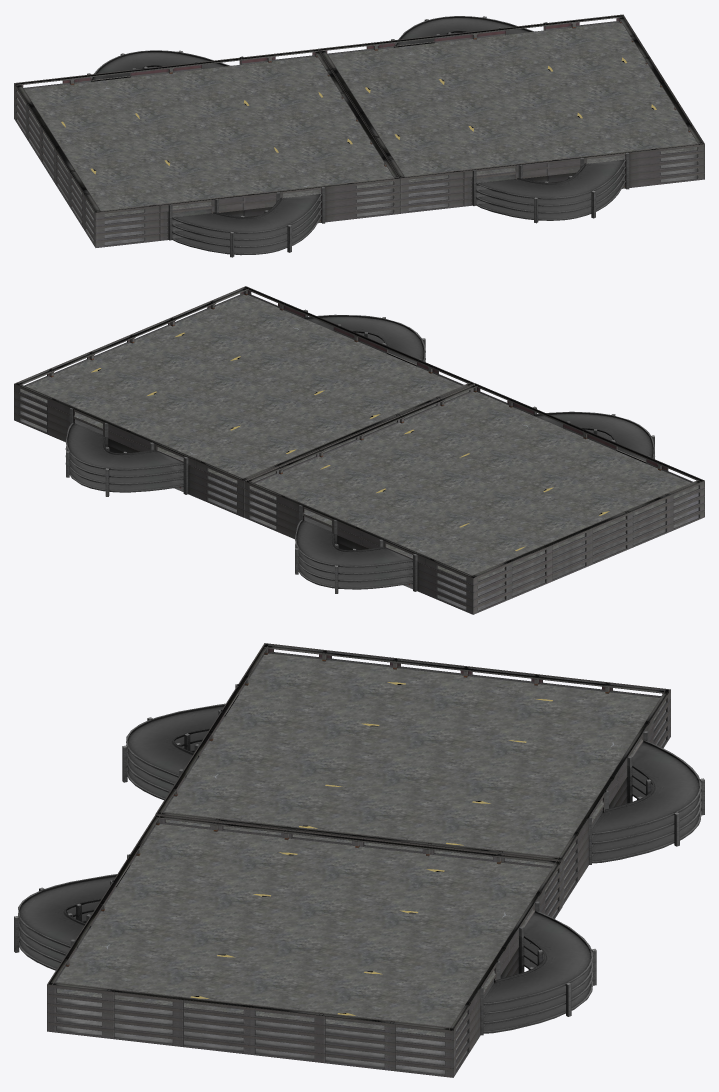
The model's file is vidp_park.glb.
3 views of the same model, one above another, from view 1: azimuth 30°, elevation 25°; view 2: azimuth 150°, elevation 25°; view 3: azimuth 270°, elevation 25° (orthographic). The views are drawn at different scales.
Parts seen in each view (by area): view 1: Parking.001; view 2: Parking.001; view 3: Parking.001.
Boxes of the visible parts, left/top/right/bottom form: Parking.001: left=14, top=14, right=704, bottom=257; Parking.001: left=14, top=286, right=704, bottom=614; Parking.001: left=14, top=643, right=704, bottom=1077.
Bounding box in the file's own units: 263 × 14.99 × 198.
Materials: 7 (7 with a texture image).
